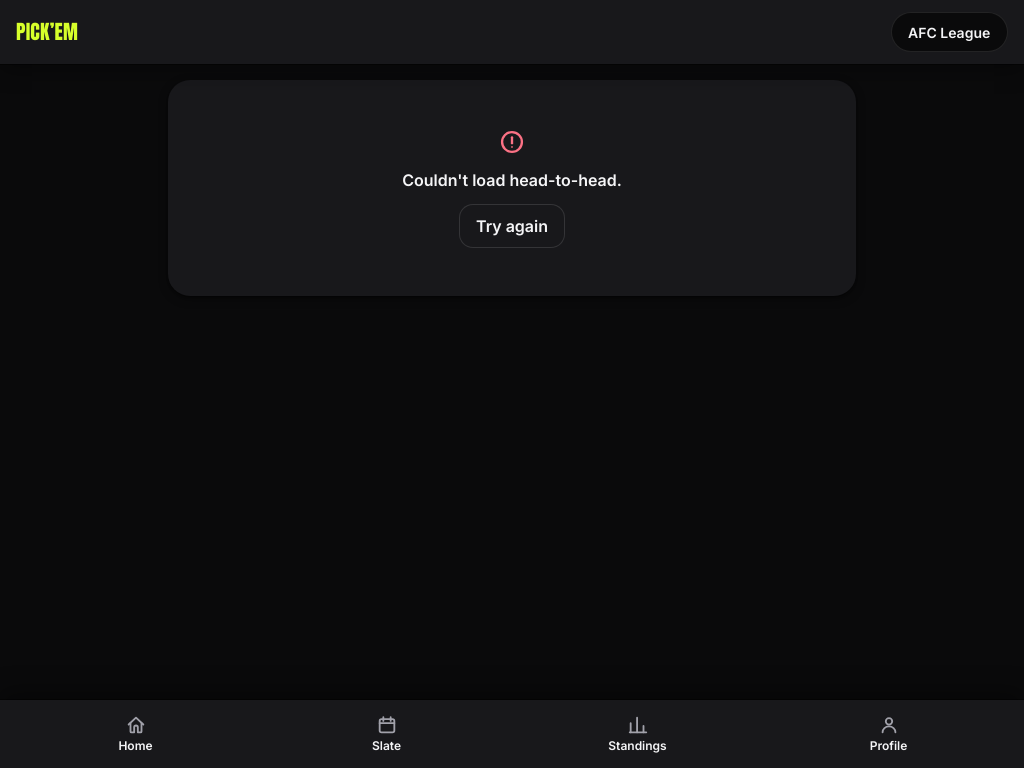
HeadToHeadScreen › shows an error state with retry on load failure
This screenshot has width=1024, height=768.
Expected: the text "Couldn't load head-to-head." is shown, [402, 168, 622, 192]
Click the button "Try again": [512, 226] box [459, 204, 565, 248]
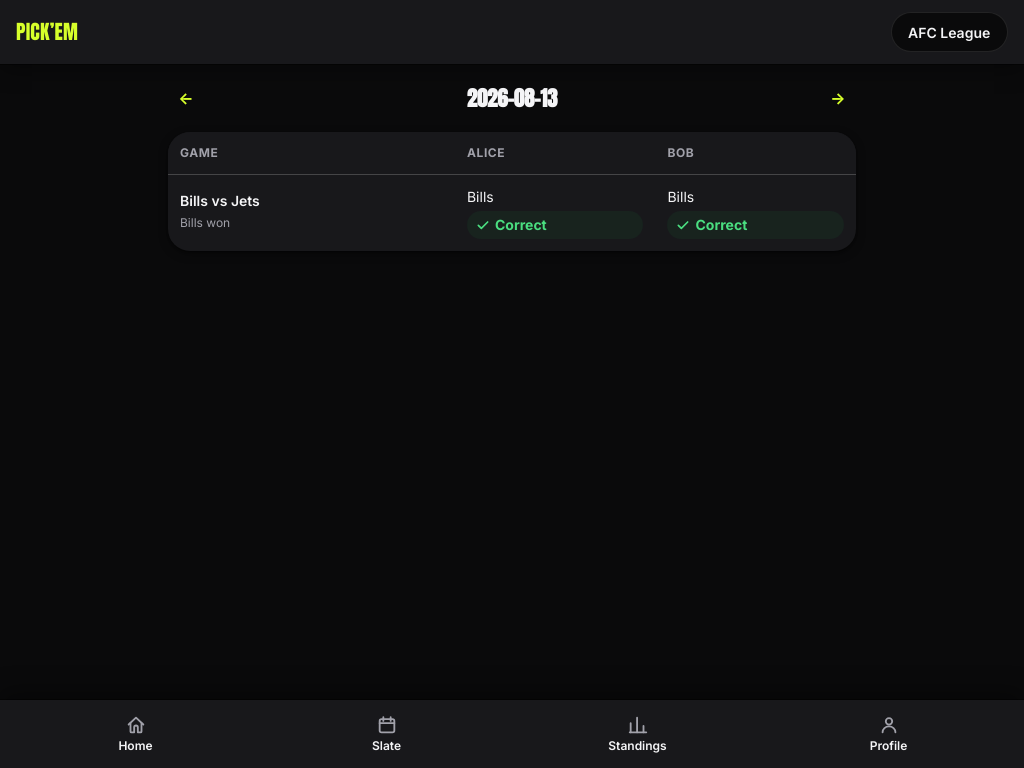
Expected: the column heading "Alice" is shown, [455, 132, 655, 174]
